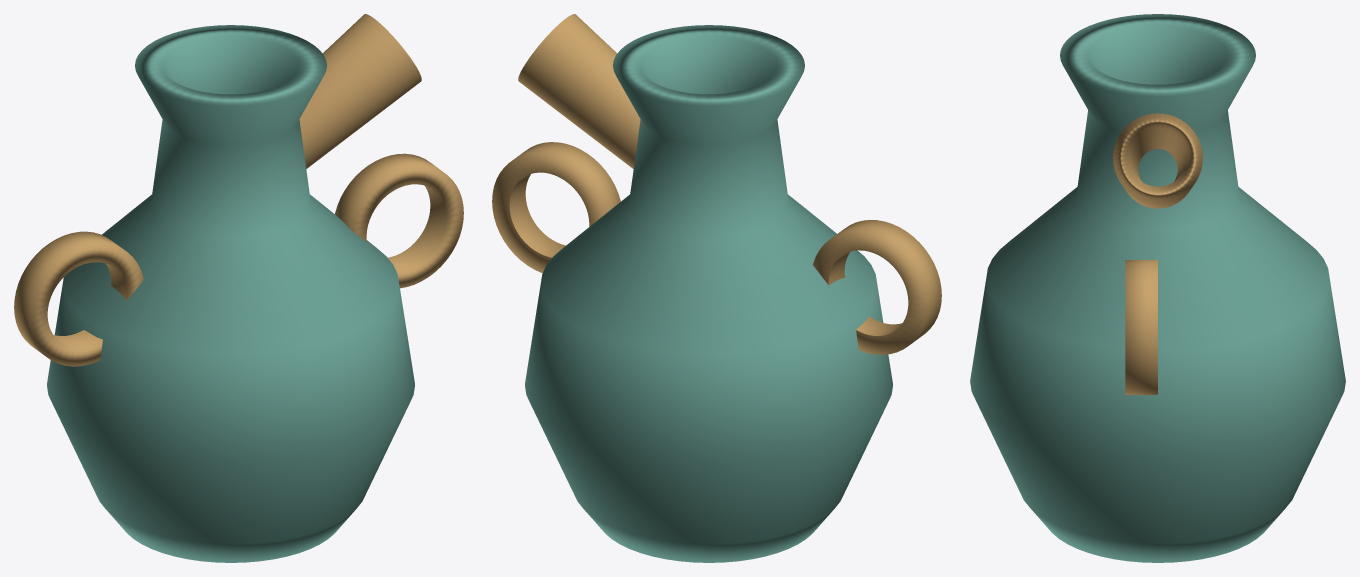
File: fantasy-bathhouse-and-thermal-sanctuary-fantasy-bathho-b6766c5d__29463.glb
3 views of the same model, side by side, from view 1: azimuth 30°, elevation 25°; view 2: azimuth 150°, elevation 25°; view 3: azimuth 270°, elevation 25° (orthographic). The views are drawn at different scales.
Parts seen in each view (by area): view 1: fantasy-bathhouse-and-thermal-sanctuary-handled-rinse-ewer; view 2: fantasy-bathhouse-and-thermal-sanctuary-handled-rinse-ewer; view 3: fantasy-bathhouse-and-thermal-sanctuary-handled-rinse-ewer.
Boxes of the visible parts, box(x1,y1,x2,y2) form: fantasy-bathhouse-and-thermal-sanctuary-handled-rinse-ewer: box(14, 14, 463, 562); fantasy-bathhouse-and-thermal-sanctuary-handled-rinse-ewer: box(492, 14, 941, 562); fantasy-bathhouse-and-thermal-sanctuary-handled-rinse-ewer: box(970, 14, 1345, 562).
Size of the model in its own units: 0.6256 by 0.6376 by 0.46.
